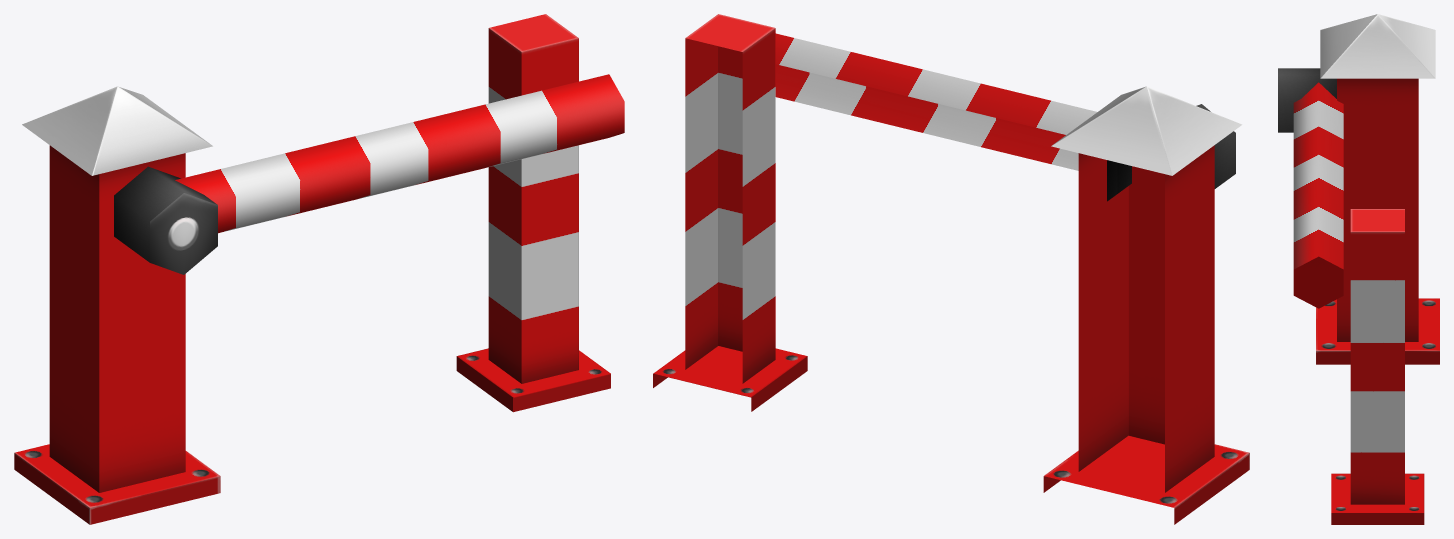
File: Barrier_1.fbx
3 renders of one model, left to right at view 1: azimuth 30°, elevation 25°; view 2: azimuth 150°, elevation 25°; view 3: azimuth 270°, elevation 25°, orthographic. The views are drawn at different scales.
Visible parts, largest first — view 1: Barrier_1; view 2: Barrier_1; view 3: Barrier_1.
Boxes of the visible parts, x1,y1,x2,y2 form: Barrier_1: (14, 14, 624, 524); Barrier_1: (653, 14, 1249, 524); Barrier_1: (1278, 14, 1439, 524).
Bounding box in the file's own units: 456 × 324 × 146.
